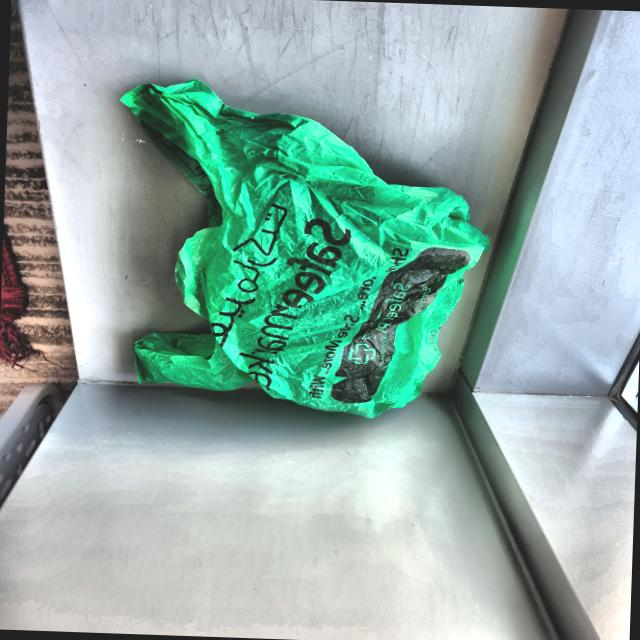plastic bag: (114, 70, 495, 432)
